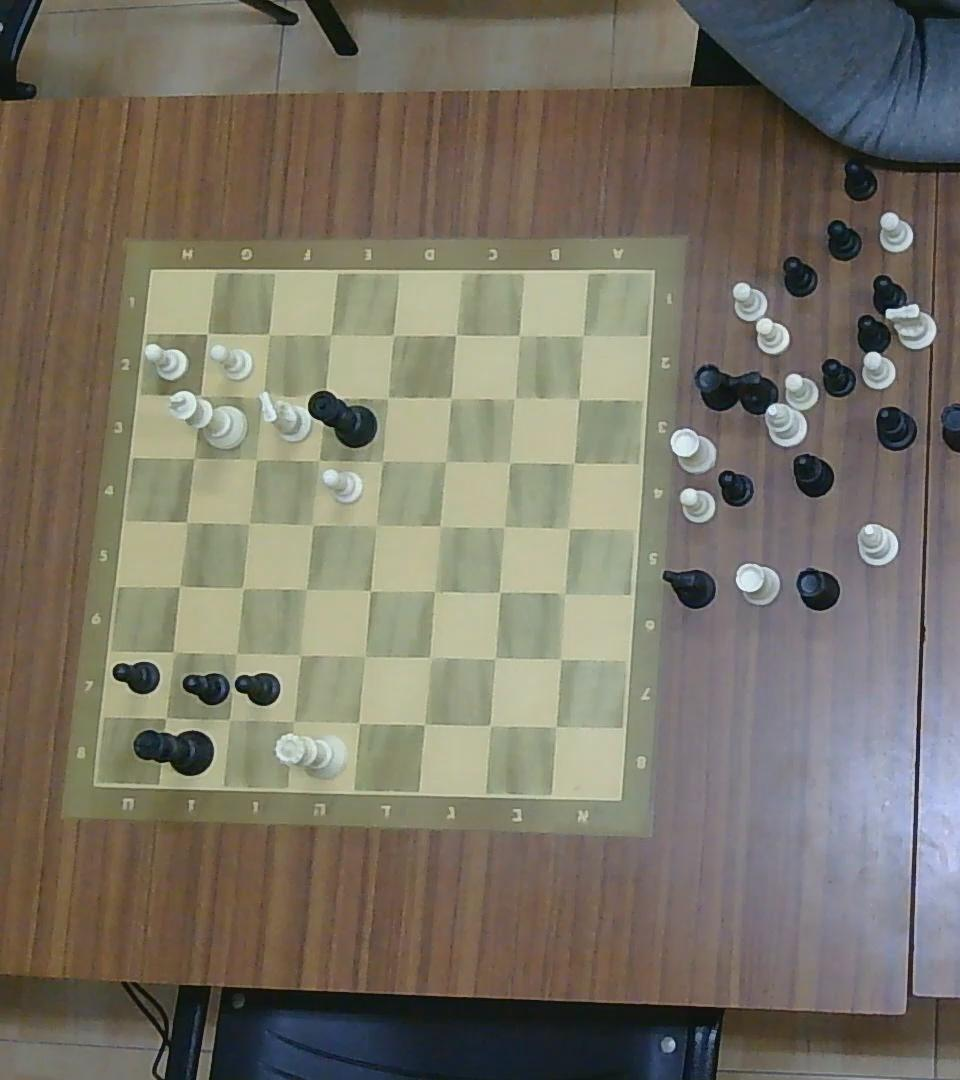xcorner: (477, 712, 503, 738), (542, 714, 569, 739), (247, 383, 272, 409), (412, 711, 437, 736), (281, 708, 305, 732), (482, 647, 506, 671), (347, 710, 371, 734), (418, 644, 442, 668), (353, 644, 376, 668), (288, 642, 311, 666), (154, 706, 178, 728), (319, 324, 341, 346), (439, 387, 461, 408), (218, 708, 240, 729), (372, 449, 392, 471), (549, 648, 571, 668), (188, 386, 210, 406), (225, 642, 245, 663), (423, 581, 443, 602), (296, 577, 315, 599), (183, 447, 203, 467), (429, 516, 449, 536), (366, 516, 386, 536), (445, 325, 465, 345), (247, 448, 266, 469), (170, 576, 189, 597), (378, 388, 397, 408), (489, 582, 508, 602), (560, 518, 579, 538), (259, 324, 278, 344), (177, 511, 196, 531), (382, 325, 401, 345), (315, 386, 334, 406), (435, 451, 454, 470), (198, 324, 217, 343), (555, 584, 574, 603), (303, 514, 321, 534), (495, 516, 513, 536), (309, 450, 327, 470), (500, 452, 518, 472), (505, 388, 523, 407), (240, 513, 258, 532), (361, 581, 380, 599), (564, 453, 583, 471), (165, 643, 183, 662), (233, 579, 251, 598), (573, 326, 591, 345), (511, 327, 529, 344), (572, 390, 588, 405)
